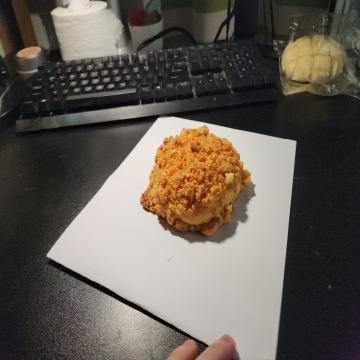soboru_bread: (140, 128, 252, 239)
